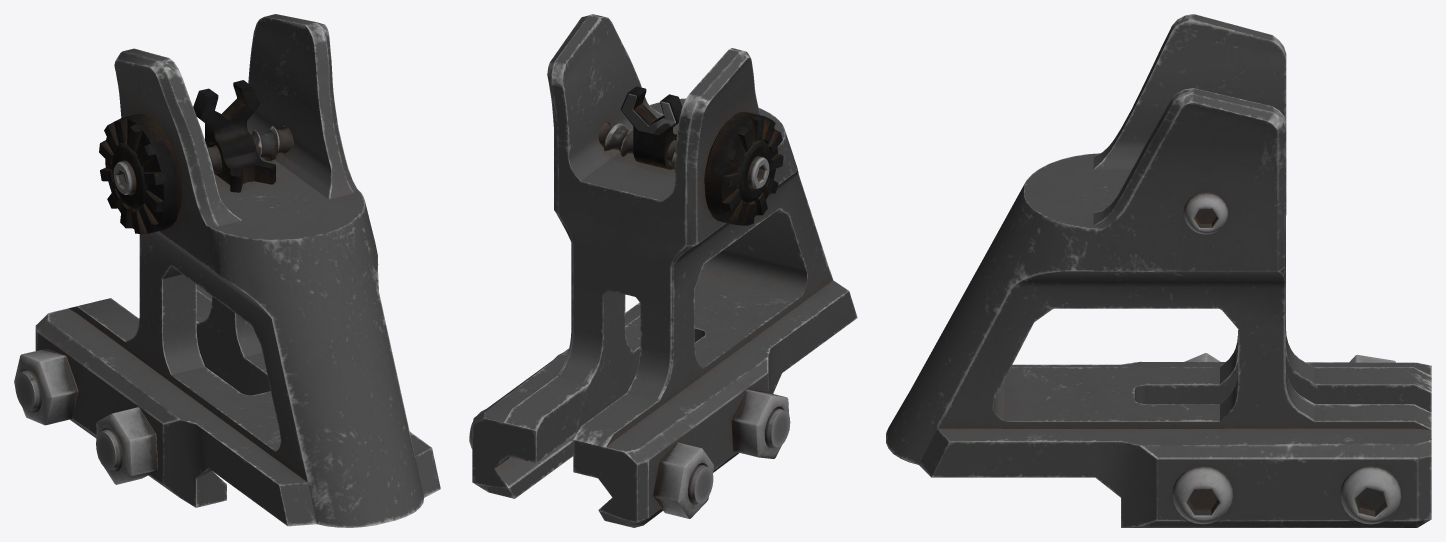
The model's file is IronSights_3_B.glb.
3 views of the same model, side by side, from view 1: azimuth 30°, elevation 25°; view 2: azimuth 150°, elevation 25°; view 3: azimuth 270°, elevation 25° (orthographic). The views are drawn at different scales.
Visible parts, largest first — view 1: IronSights_3_B; view 2: IronSights_3_B, IronSights_3_B_Sight; view 3: IronSights_3_B.
Boxes of the visible parts, x1,y1,x2,y2 form: IronSights_3_B: (14, 14, 440, 527); IronSights_3_B: (469, 14, 857, 527); IronSights_3_B_Sight: (621, 93, 675, 135); IronSights_3_B: (886, 14, 1431, 527).
Bounding box in the file's own units: 0.0405 × 0.0689 × 0.0782.
1 material, 1 textured.
